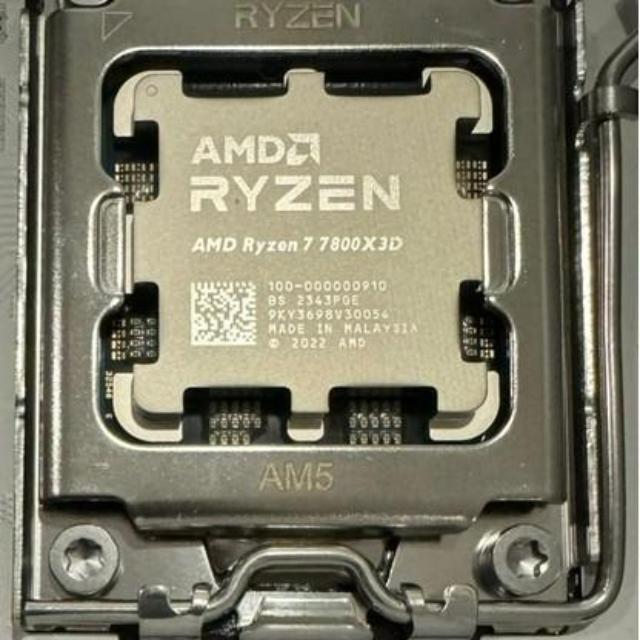CPU: (112, 65, 498, 428)
